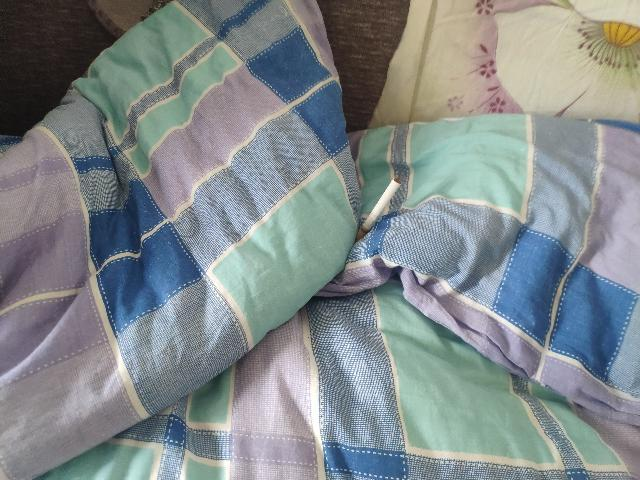Smoking: (350, 177, 402, 248)
